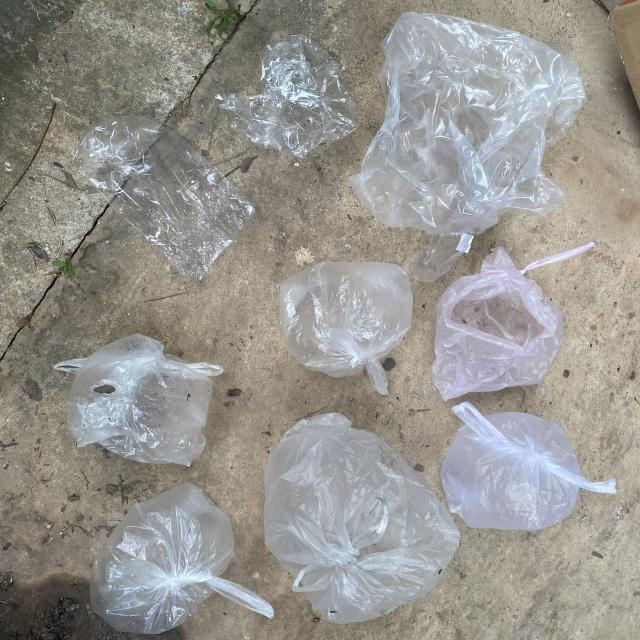Single-layer Plastic: (349, 12, 585, 281), (264, 414, 460, 624), (76, 116, 254, 280), (90, 482, 274, 634), (431, 241, 595, 400), (441, 401, 616, 530), (54, 334, 222, 466), (278, 261, 412, 395), (216, 35, 358, 158)
